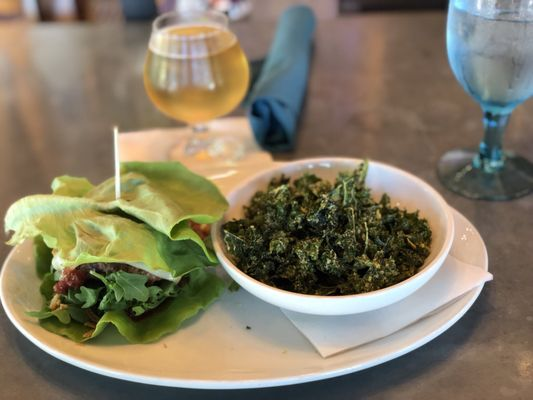curry: (217, 160, 446, 294)
soup: (2, 162, 235, 346)
sushi: (214, 159, 456, 318)
